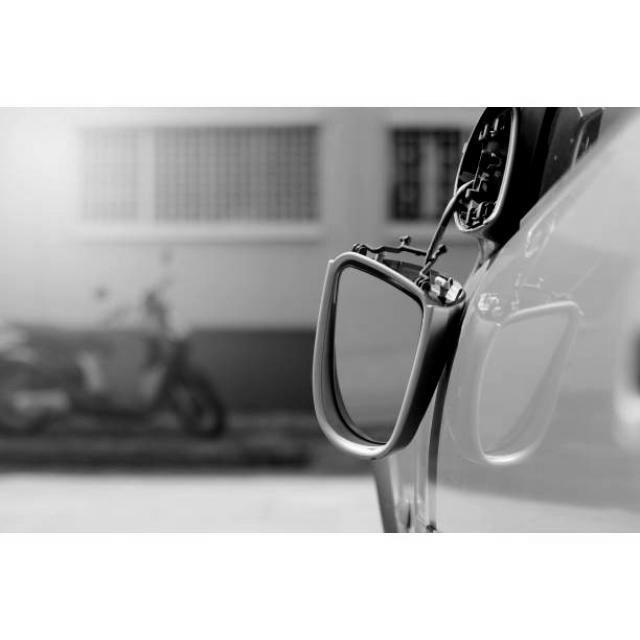Sidemirror-Damage: (317, 108, 535, 451)
